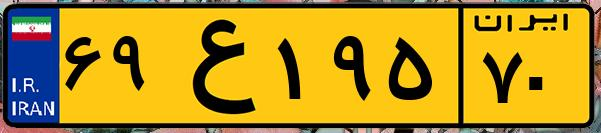0: (525, 38, 570, 115)
1: (270, 28, 330, 110)
5: (385, 28, 445, 110)
6: (57, 26, 110, 100)
7: (475, 38, 525, 113)
9: (330, 28, 385, 110), (110, 28, 158, 98)
ع: (158, 12, 270, 120)
